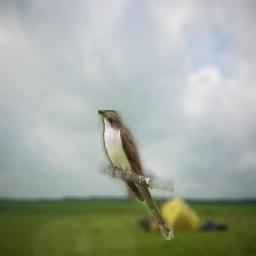Cuckoo: (98, 110, 174, 240)
